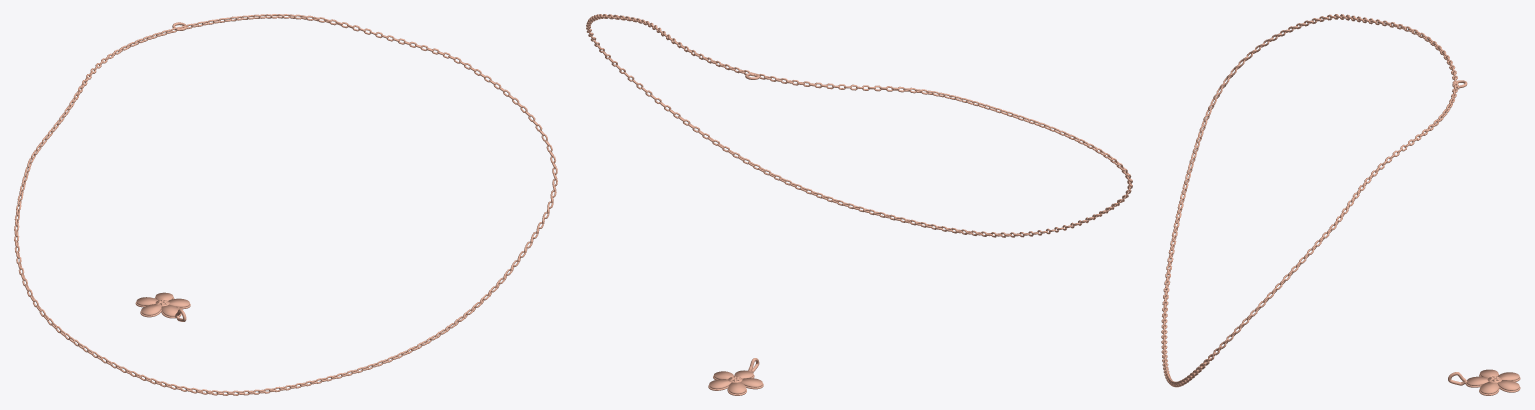
The model's file is Pendant_Blossom.fbx.
The picture shows the model from 3 angles, left to right: view 1: azimuth 30°, elevation 25°; view 2: azimuth 150°, elevation 25°; view 3: azimuth 270°, elevation 25°; orthographic projection. The views are drawn at different scales.
Visible parts, largest first — view 1: Chain, Halo_Petals; view 2: Chain, Halo_Petals; view 3: Chain, Halo_Petals.
Part boxes in pixels (x1,y1,x2,y2): Chain: (14, 14, 557, 395); Halo_Petals: (135, 292, 190, 318); Chain: (586, 14, 1132, 237); Halo_Petals: (708, 370, 763, 395); Chain: (1161, 14, 1458, 387); Halo_Petals: (1466, 369, 1520, 395).
Size of the model in its own units: 0.1726 by 0.0925 by 0.0989.
